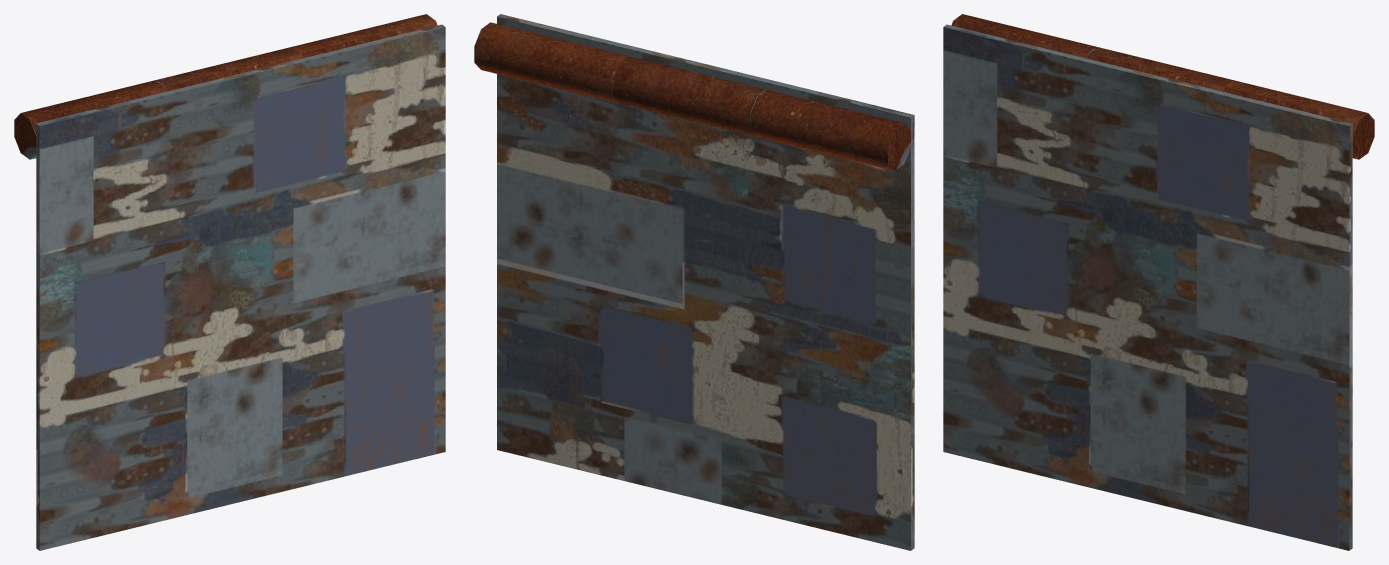
The model's file is garage_door_textured.glb.
3 renders of one model, left to right at view 1: azimuth 30°, elevation 25°; view 2: azimuth 150°, elevation 25°; view 3: azimuth 330°, elevation 25°, orthographic.
Parts seen in each view (by area): view 1: Circle; view 2: Circle; view 3: Circle.
Boxes of the visible parts, bbox=[...] form: Circle: bbox=[14, 14, 445, 550]; Circle: bbox=[474, 14, 914, 550]; Circle: bbox=[943, 14, 1374, 550].
Size of the model in its own units: 2 by 2 by 0.2183.
Materials: 1 (1 with a texture image).
